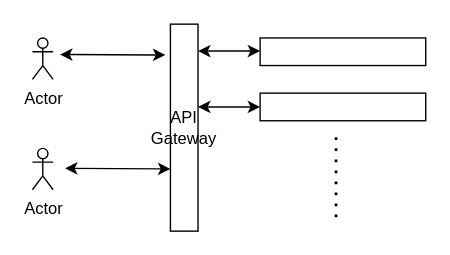
The diagram is 450 pixels wide and 255 high, and some of its shapes have lost their labels. The box of each missing label's shape, as (x1, y1, x2, y2) in pixels:
List products service: (259, 92, 426, 121)
Sign in service: (259, 37, 426, 66)
